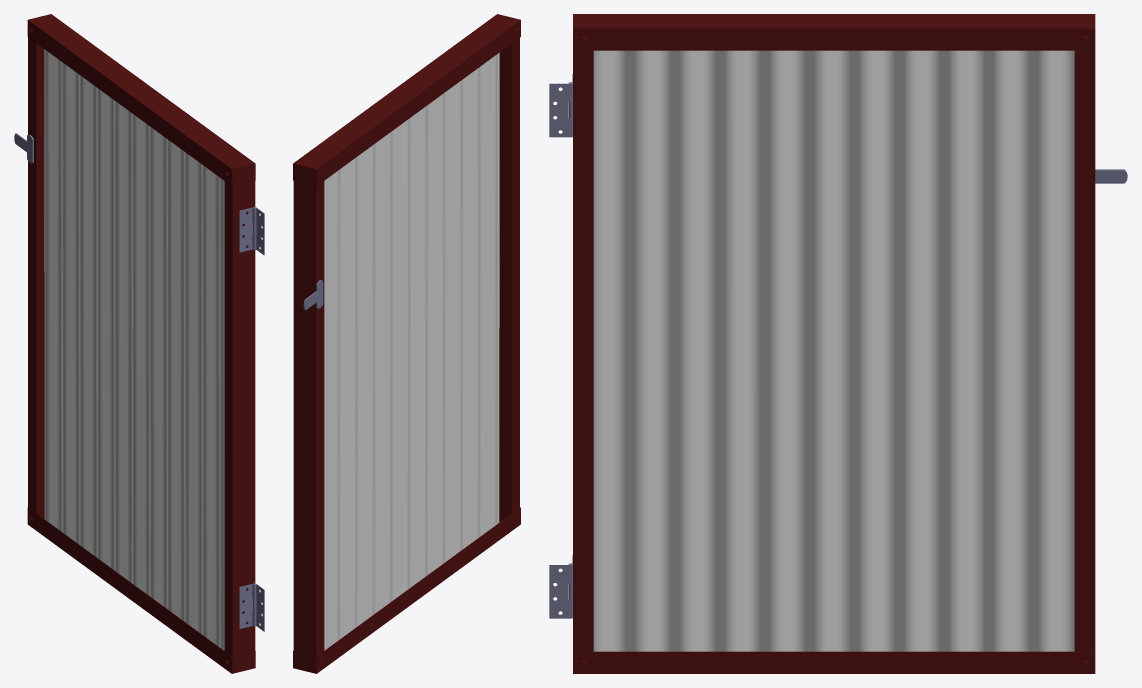
Rendered from GCSG12.glb.
The picture shows the model from 3 angles, left to right: view 1: azimuth 30°, elevation 25°; view 2: azimuth 150°, elevation 25°; view 3: azimuth 270°, elevation 25°; orthographic projection. The views are drawn at different scales.
Parts seen in each view (by area): view 1: GC - GOOD NEIGHBOUR CGI-16 SINGLE DRIVEWAY GATE - VERTICAL -; view 2: GC - GOOD NEIGHBOUR CGI-16 SINGLE DRIVEWAY GATE - VERTICAL -; view 3: GC - GOOD NEIGHBOUR CGI-16 SINGLE DRIVEWAY GATE - VERTICAL -.
Boxes of the visible parts, x1=… form: GC - GOOD NEIGHBOUR CGI-16 SINGLE DRIVEWAY GATE - VERTICAL -: x1=14, y1=14, x2=264, y2=673; GC - GOOD NEIGHBOUR CGI-16 SINGLE DRIVEWAY GATE - VERTICAL -: x1=293, y1=14, x2=520, y2=673; GC - GOOD NEIGHBOUR CGI-16 SINGLE DRIVEWAY GATE - VERTICAL -: x1=549, y1=14, x2=1127, y2=673.
Bounding box in the file's own units: 0.0696 × 1.21 × 0.9803.
